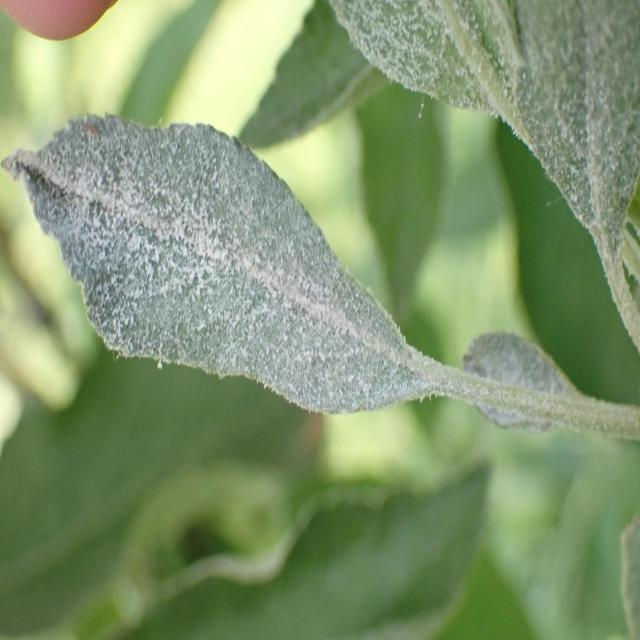Powdery_mildew: (3, 91, 439, 423), (516, 0, 640, 361), (315, 0, 538, 151), (458, 320, 640, 454)
